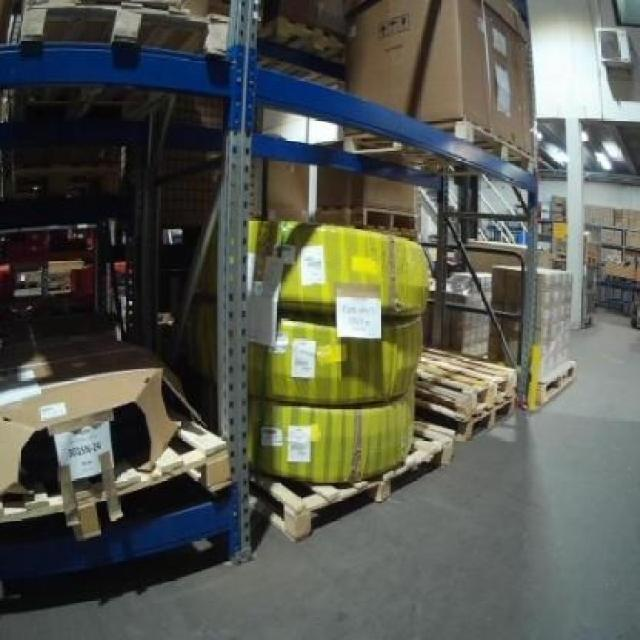floor: (0, 311, 637, 637)
pallets: (246, 218, 426, 480), (414, 346, 514, 437), (528, 268, 574, 406), (491, 263, 520, 349)
